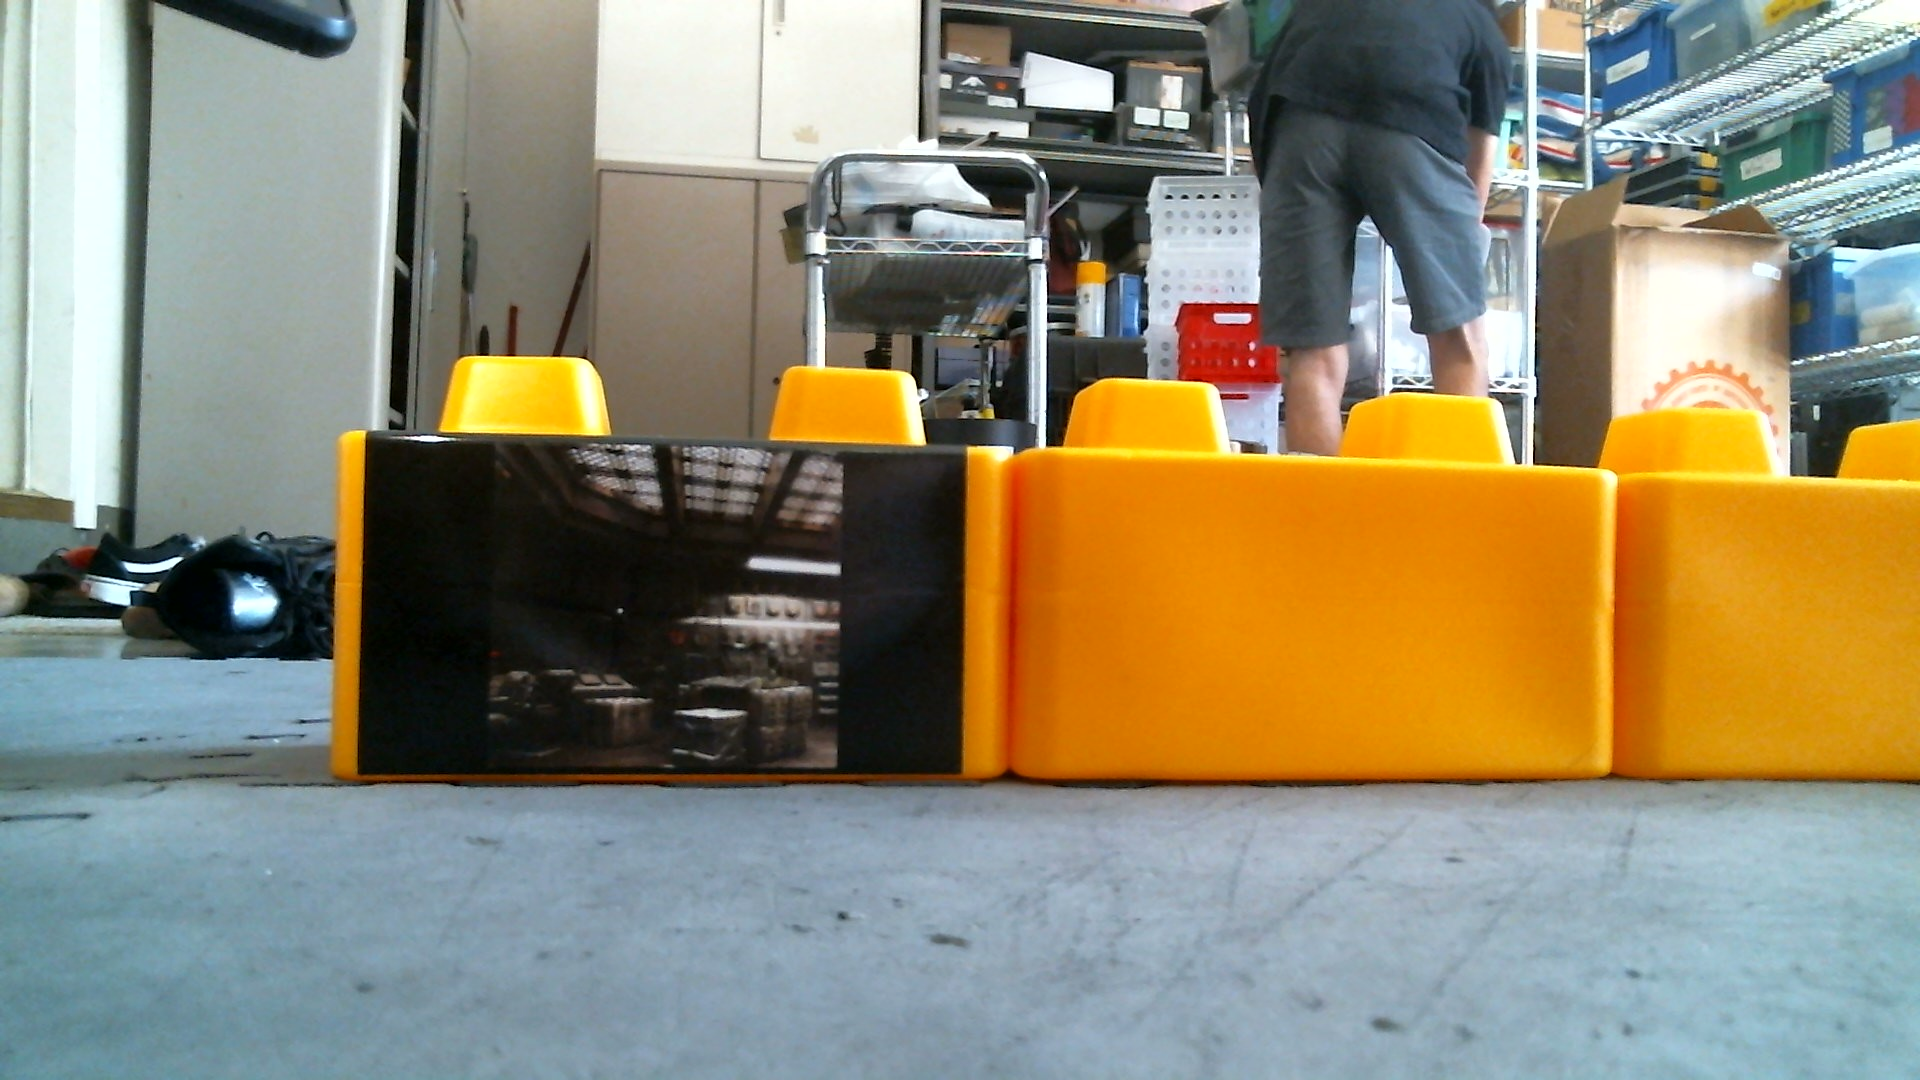skystone: (334, 351, 1014, 791)
stone: (1011, 376, 1626, 786), (1604, 400, 1920, 787)
